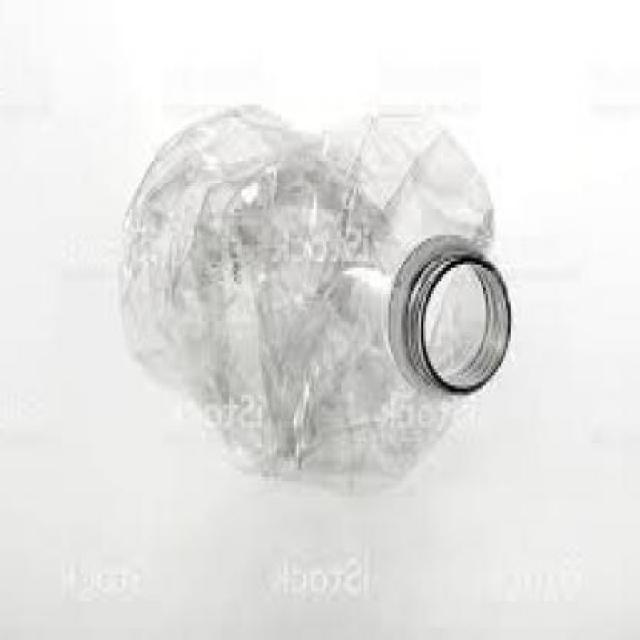plastic: (120, 105, 517, 486)
